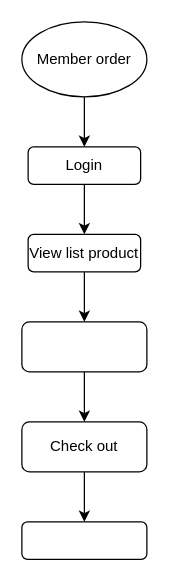
This 169x581 diagram has some shape labels left out. The shapes that lost their labels are listed below. From the top down, each one's box as (x1, y1, x2, y2) in pixels, then its label:
(21, 321, 147, 372): Choose product add to cart
(21, 521, 147, 559): payment
